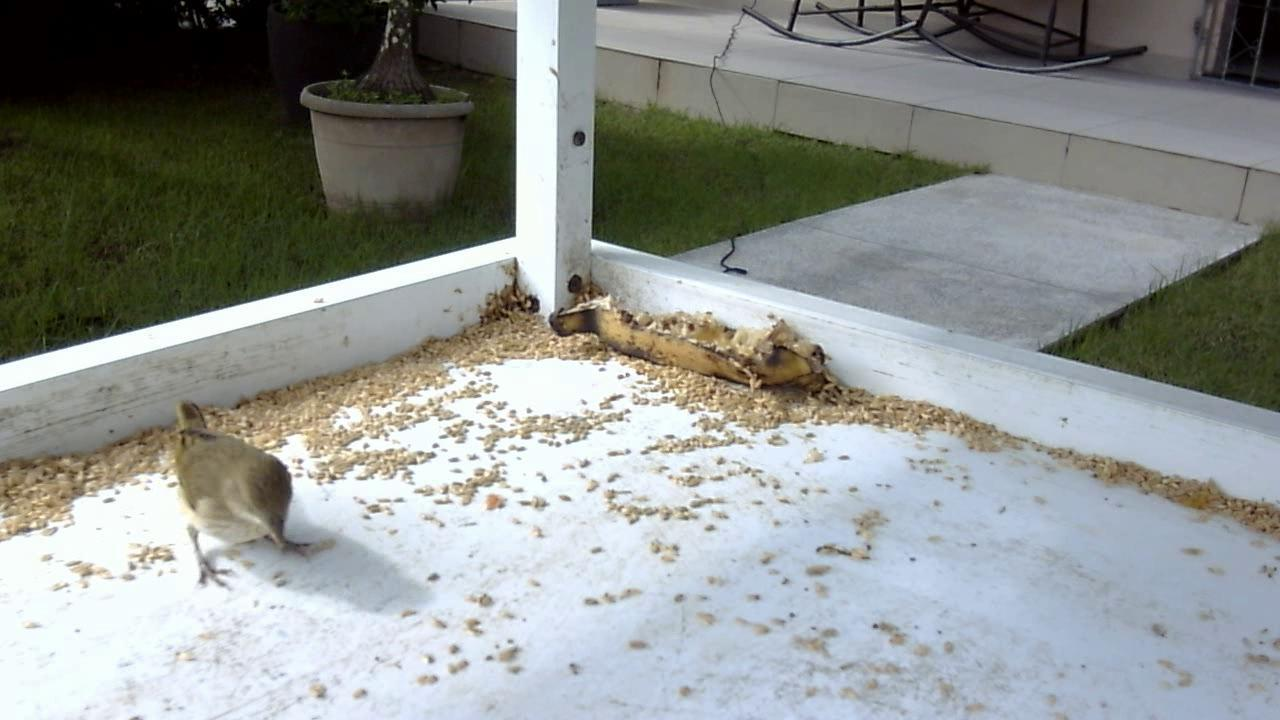canario_do_amazonas: (157, 392, 324, 597)
